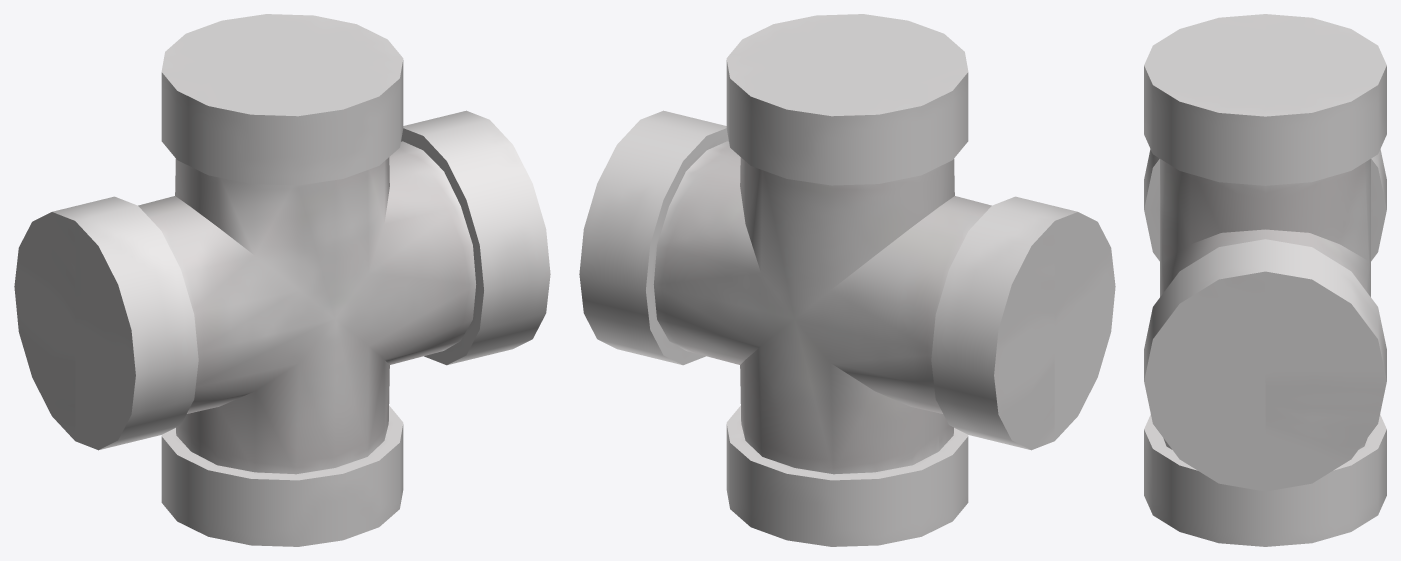
File: Pipe_S4.fbx
3 renders of one model, left to right at view 1: azimuth 30°, elevation 25°; view 2: azimuth 150°, elevation 25°; view 3: azimuth 270°, elevation 25°, orthographic.
Parts seen in each view (by area): view 1: Mat_Pipe_01 4; view 2: Mat_Pipe_01 4; view 3: Mat_Pipe_01 4.
Boxes of the visible parts, bbox=[...] form: Mat_Pipe_01 4: bbox=[14, 14, 550, 546]; Mat_Pipe_01 4: bbox=[579, 14, 1115, 546]; Mat_Pipe_01 4: bbox=[1144, 14, 1386, 546].
Size of the model in its own units: 0.6805 by 0.6755 by 0.3455.
1 material, 1 textured.
